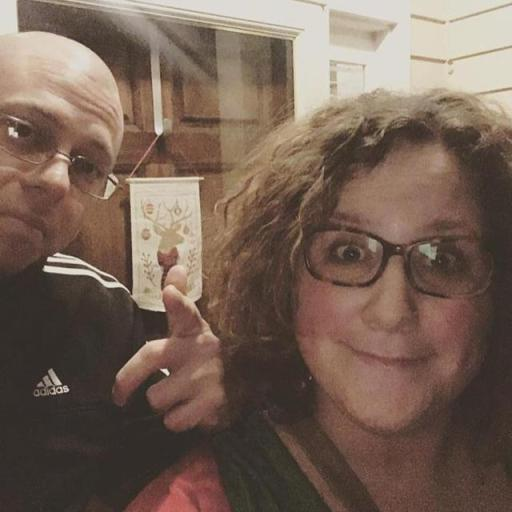Adidas: (30, 364, 72, 400)
